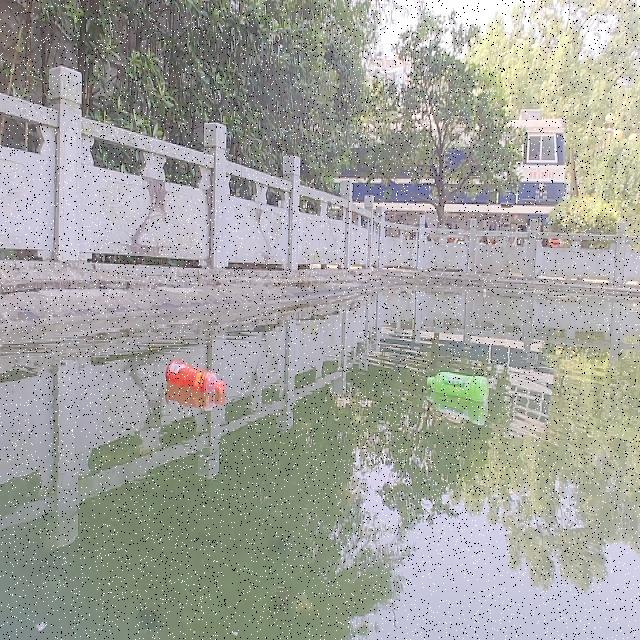bottle: (422, 365, 490, 404), (163, 357, 226, 395)
